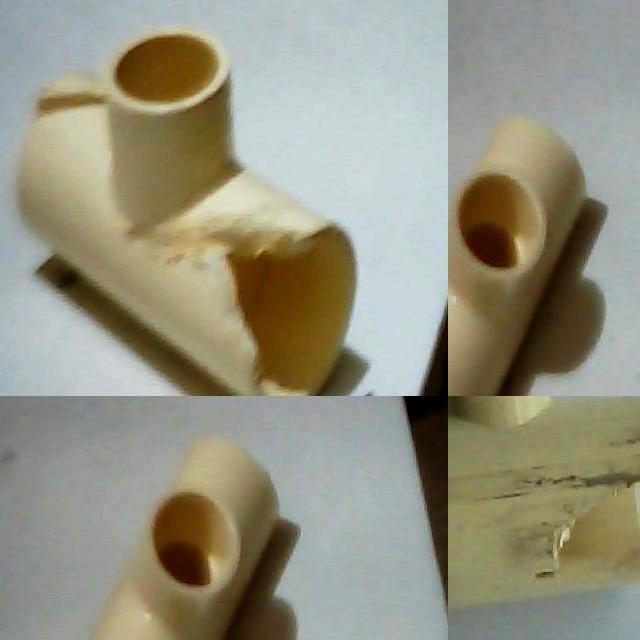Defective: (134, 201, 314, 396), (533, 480, 640, 576), (222, 307, 297, 396), (172, 233, 307, 281), (33, 80, 110, 136)
T Joint: (15, 27, 358, 396), (448, 396, 640, 616), (88, 436, 279, 640), (448, 117, 586, 396)
